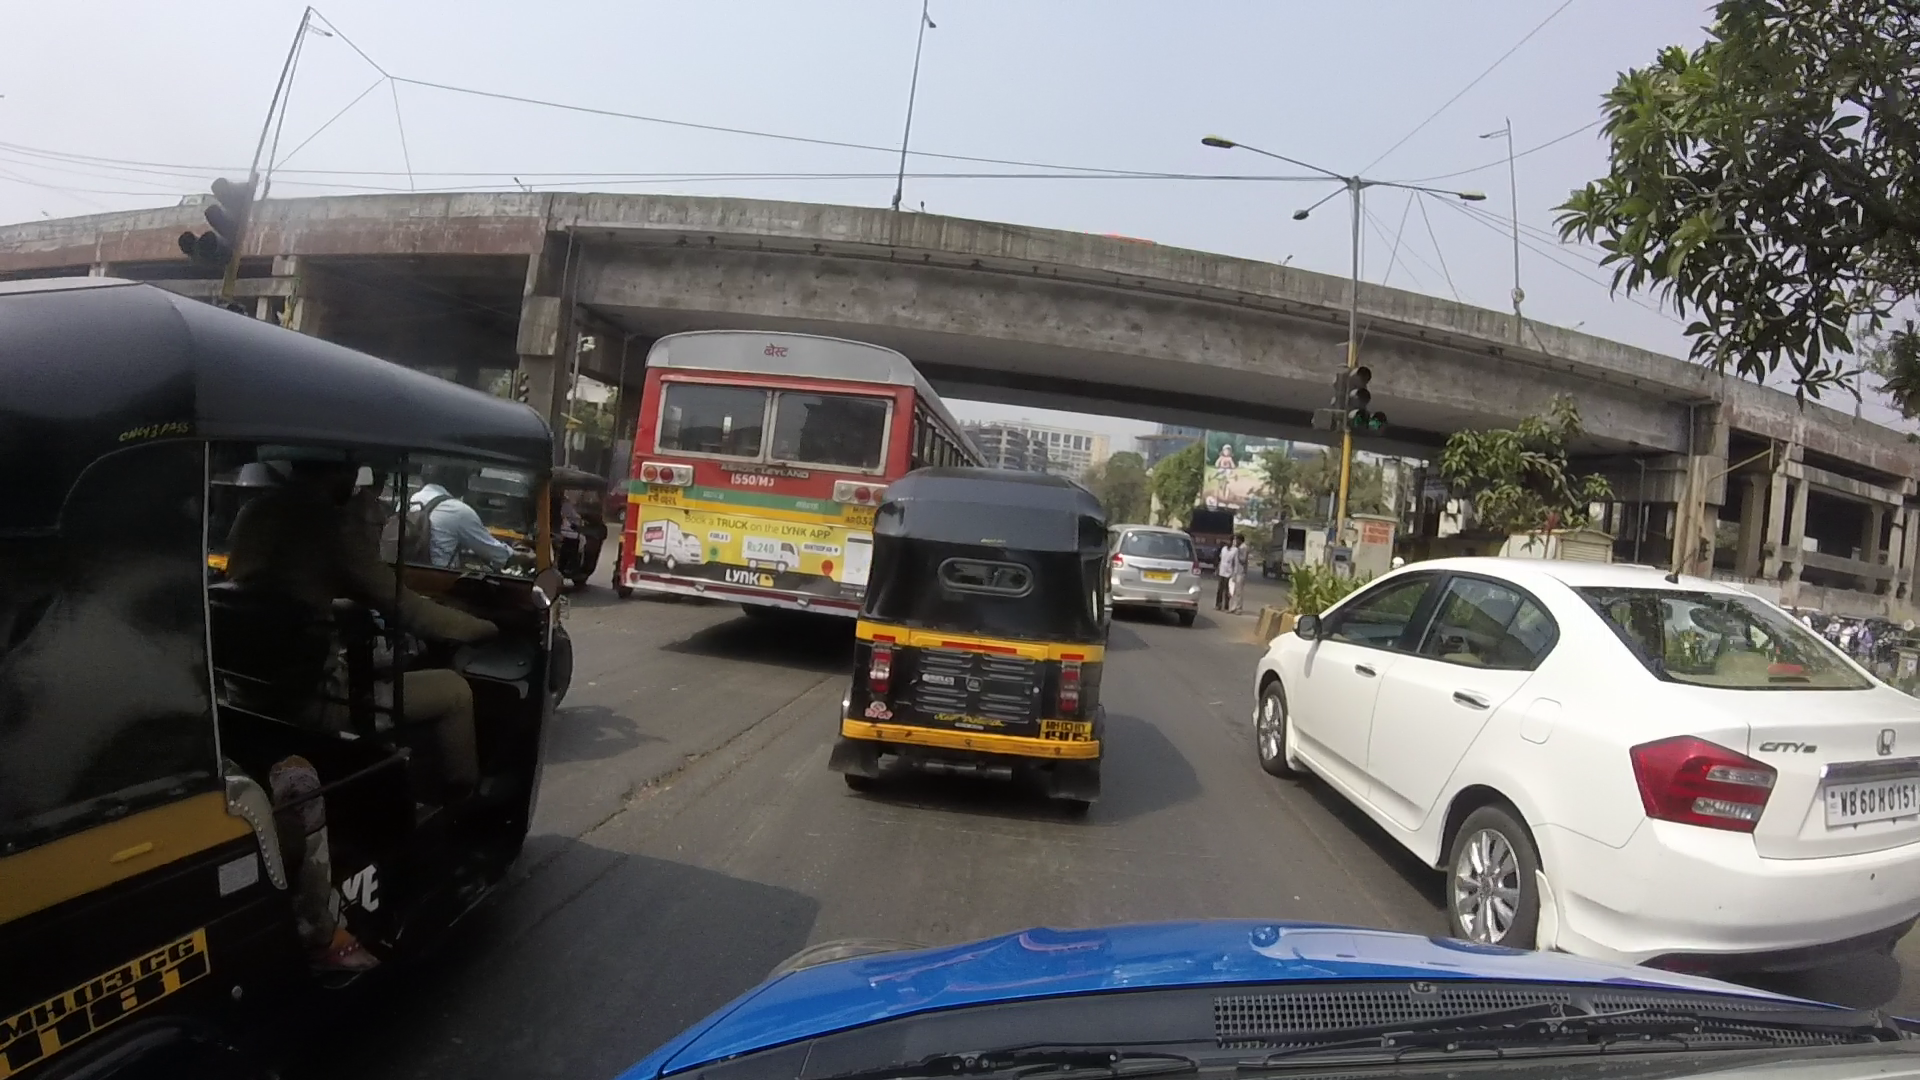bus: (618, 339, 972, 626)
car: (1222, 541, 1899, 968), (1098, 530, 1205, 616)
rickshaw: (8, 272, 563, 1039), (858, 454, 1112, 769)
